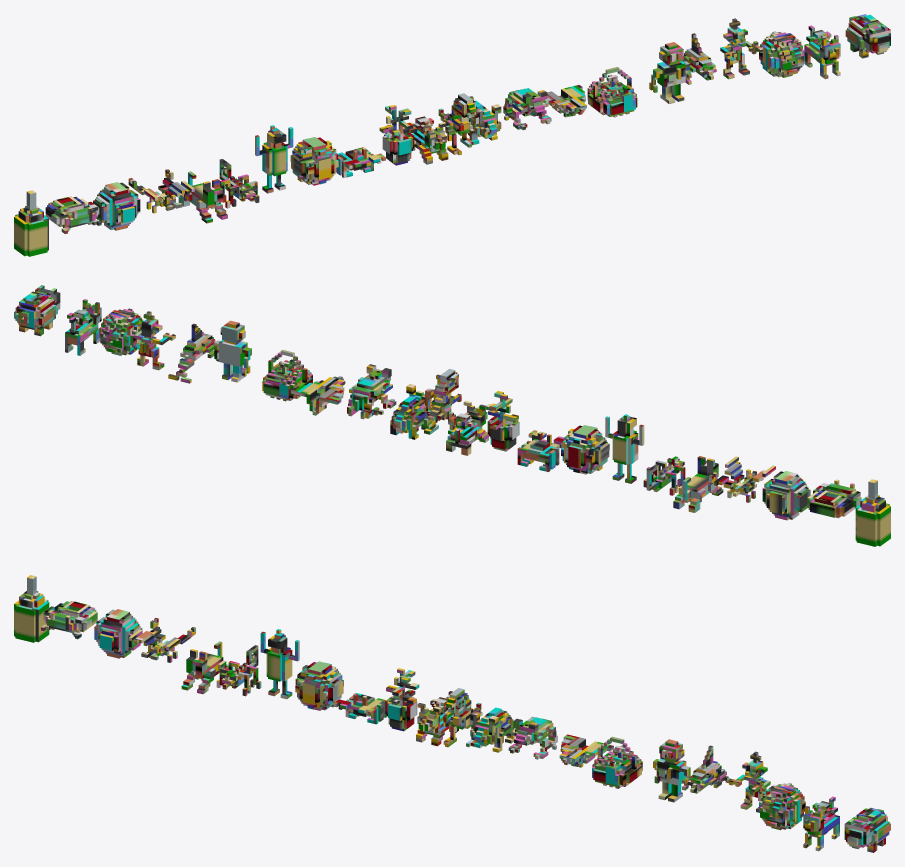
Rendered from ui_characters.dae.
The picture shows the model from 3 angles, top to bottom: view 1: azimuth 30°, elevation 25°; view 2: azimuth 150°, elevation 25°; view 3: azimuth 330°, elevation 25°; orthographic projection.
Parts seen in each view (by area): view 1: ui_deathstar, ui_fruits, ui_soju, ui_toyrobot, ui_minimonster, ui_wilson, ui_bender, ui_leonplant, ui_goldpig, ui_vacuumrobot, ui_tyranno, ui_beardedfrog (+10 smaller); view 2: ui_deathstar, ui_minimonster, ui_soju, ui_beardedfrog, ui_toyrobot, ui_fruits, ui_bender, ui_goldpig, ui_wilson, ui_vacuumrobot, ui_tyranno, ui_hamster (+10 smaller); view 3: ui_deathstar, ui_fruits, ui_wilson, ui_minimonster, ui_toyrobot, ui_soju, ui_bender, ui_goldpig, ui_leonplant, ui_hamster, ui_vacuumrobot, ui_beardedfrog (+10 smaller).
Boxes of the visible parts, left/top/right/bottom form: ui_deathstar: left=290, top=137, right=338, bottom=185; ui_fruits: left=587, top=67, right=637, bottom=117; ui_soju: left=14, top=190, right=48, bottom=256; ui_toyrobot: left=649, top=42, right=691, bottom=103; ui_minimonster: left=93, top=182, right=140, bottom=230; ui_wilson: left=759, top=31, right=804, bottom=77; ui_bender: left=255, top=125, right=293, bottom=193; ui_leonplant: left=379, top=105, right=417, bottom=165; ui_goldpig: left=845, top=14, right=890, bottom=58; ui_vacuumrobot: left=45, top=196, right=101, bottom=233; ui_tyranno: left=438, top=93, right=478, bottom=155; ui_beardedfrog: left=503, top=88, right=551, bottom=130; ui_deathstar: left=561, top=425, right=609, bottom=474; ui_minimonster: left=762, top=471, right=810, bottom=520; ui_soju: left=855, top=479, right=890, bottom=546; ui_beardedfrog: left=347, top=364, right=396, bottom=419; ui_toyrobot: left=214, top=320, right=251, bottom=382; ui_fruits: left=262, top=350, right=312, bottom=401; ui_bender: left=605, top=414, right=644, bottom=483; ui_goldpig: left=14, top=285, right=60, bottom=336; ui_wilson: left=99, top=308, right=143, bottom=355; ui_vacuumrobot: left=807, top=479, right=861, bottom=518; ui_tyranno: left=422, top=369, right=461, bottom=434; ui_hamster: left=390, top=384, right=433, bottom=439; ui_deathstar: left=295, top=661, right=343, bottom=710; ui_fruits: left=592, top=736, right=642, bottom=788; ui_wilson: left=759, top=783, right=805, bottom=830; ui_minimonster: left=94, top=609, right=142, bottom=658; ui_toyrobot: left=653, top=739, right=690, bottom=802; ui_soju: left=14, top=575, right=49, bottom=642; ui_bender: left=260, top=629, right=299, bottom=699; ui_goldpig: left=844, top=807, right=890, bottom=852; ui_leonplant: left=385, top=668, right=419, bottom=731; ui_hamster: left=470, top=707, right=514, bottom=752; ui_vacuumrobot: left=41, top=601, right=97, bottom=639; ui_beardedfrog: left=508, top=716, right=557, bottom=759.
Bounding box in the file's own units: 281 × 22 × 23.
Materials: 1 (1 with a texture image).
